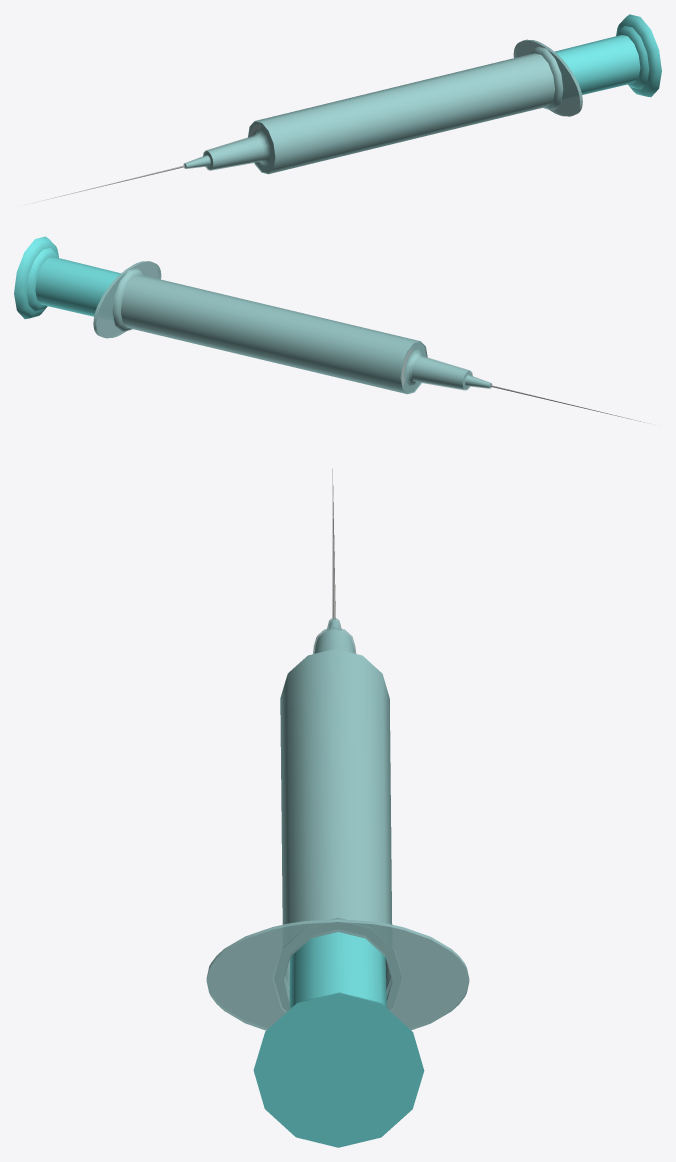
Rendered from syringeWithDrug.FBX.
The picture shows the model from 3 angles, top to bottom: view 1: azimuth 30°, elevation 25°; view 2: azimuth 150°, elevation 25°; view 3: azimuth 270°, elevation 25°; orthographic projection. The views are drawn at different scales.
Parts seen in each view (by area): view 1: syringe; view 2: syringe; view 3: syringe.
Boxes of the visible parts, left/top/right/bottom form: syringe: left=25, top=14, right=661, bottom=204; syringe: left=14, top=236, right=650, bottom=423; syringe: left=206, top=469, right=469, bottom=1147.
Size of the model in its own units: 13.68 by 1.62 by 2.49.
